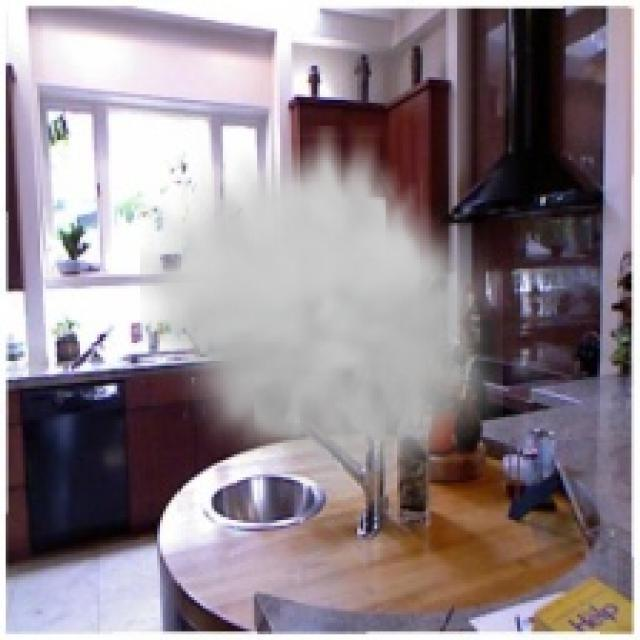smoke: (140, 126, 503, 506)
